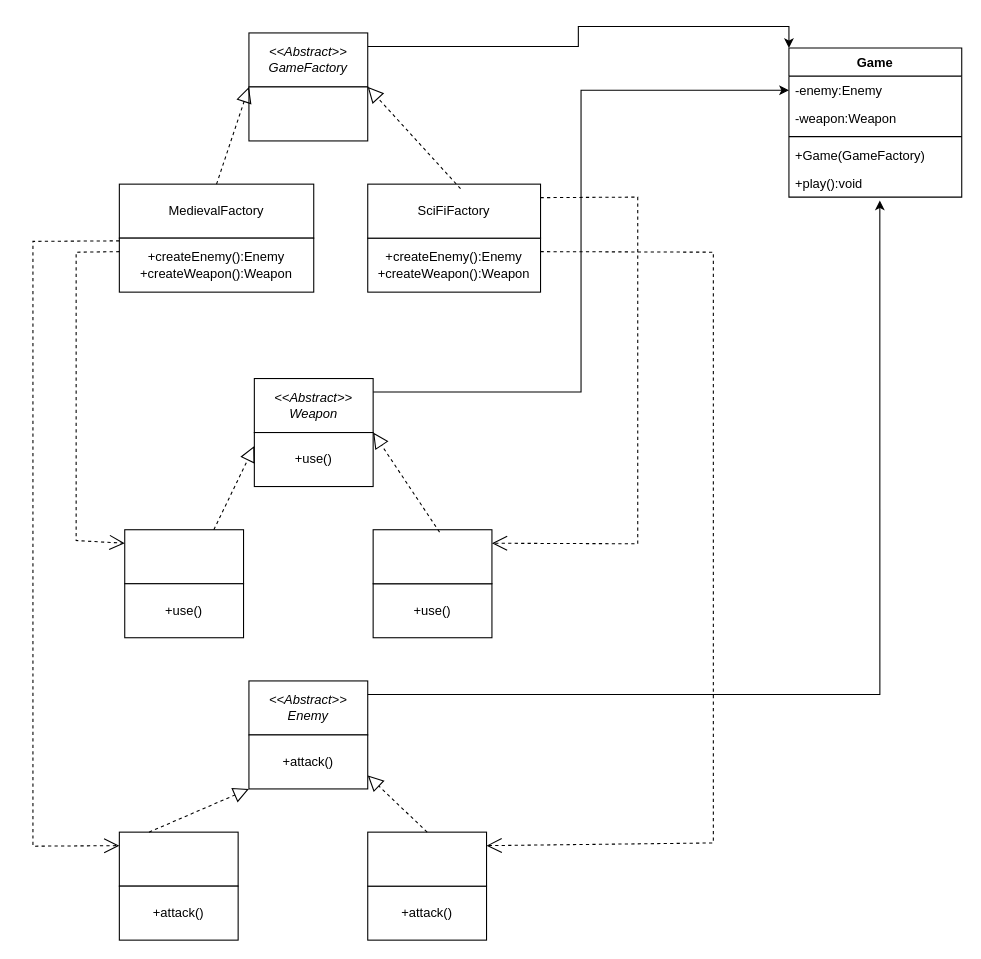
This 981x959 diagram has some shape labels left out. The shapes that lost their labels are listed below. From the top down, each one's box as (x1, y1, x2, y2) in pixels, then its label:
(248, 86, 368, 141): +createEnemy() +createWeapon()
(124, 529, 244, 584): Sword
(372, 529, 492, 584): LaserGun
(118, 831, 238, 886): Orc
(367, 831, 487, 886): Alien
